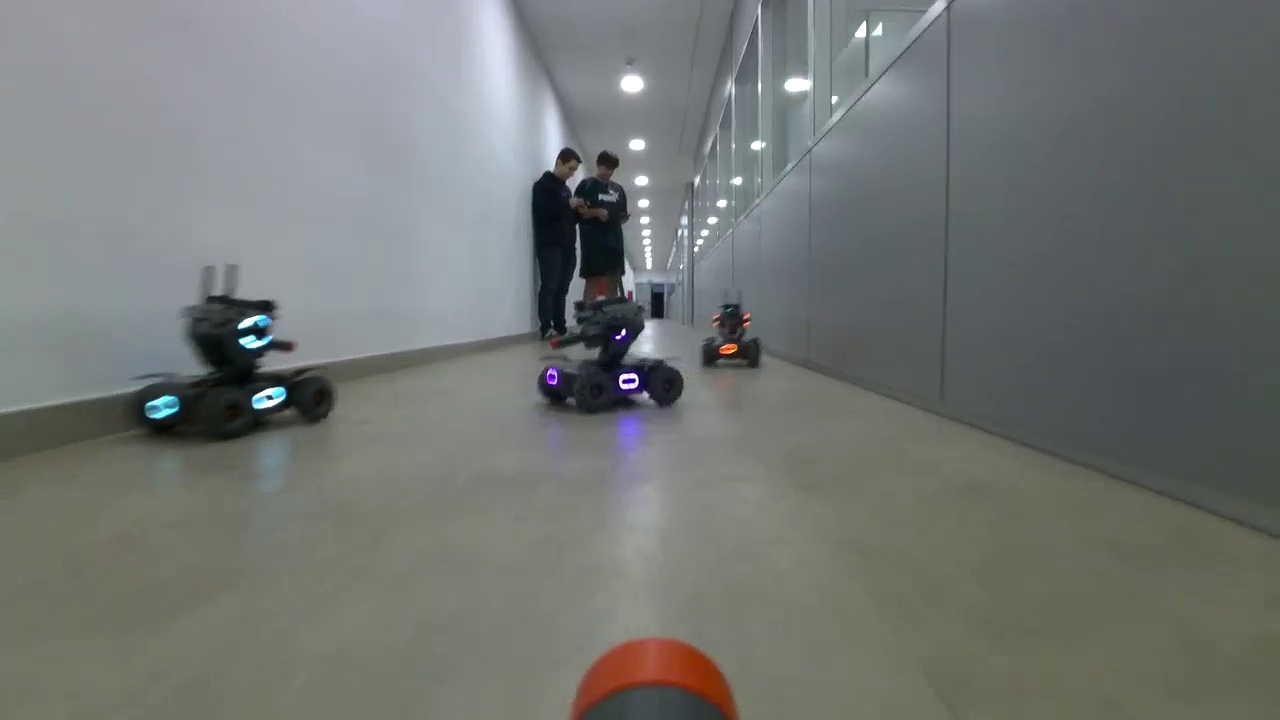robot: (132, 292, 337, 443), (537, 298, 687, 416), (699, 305, 763, 374)
